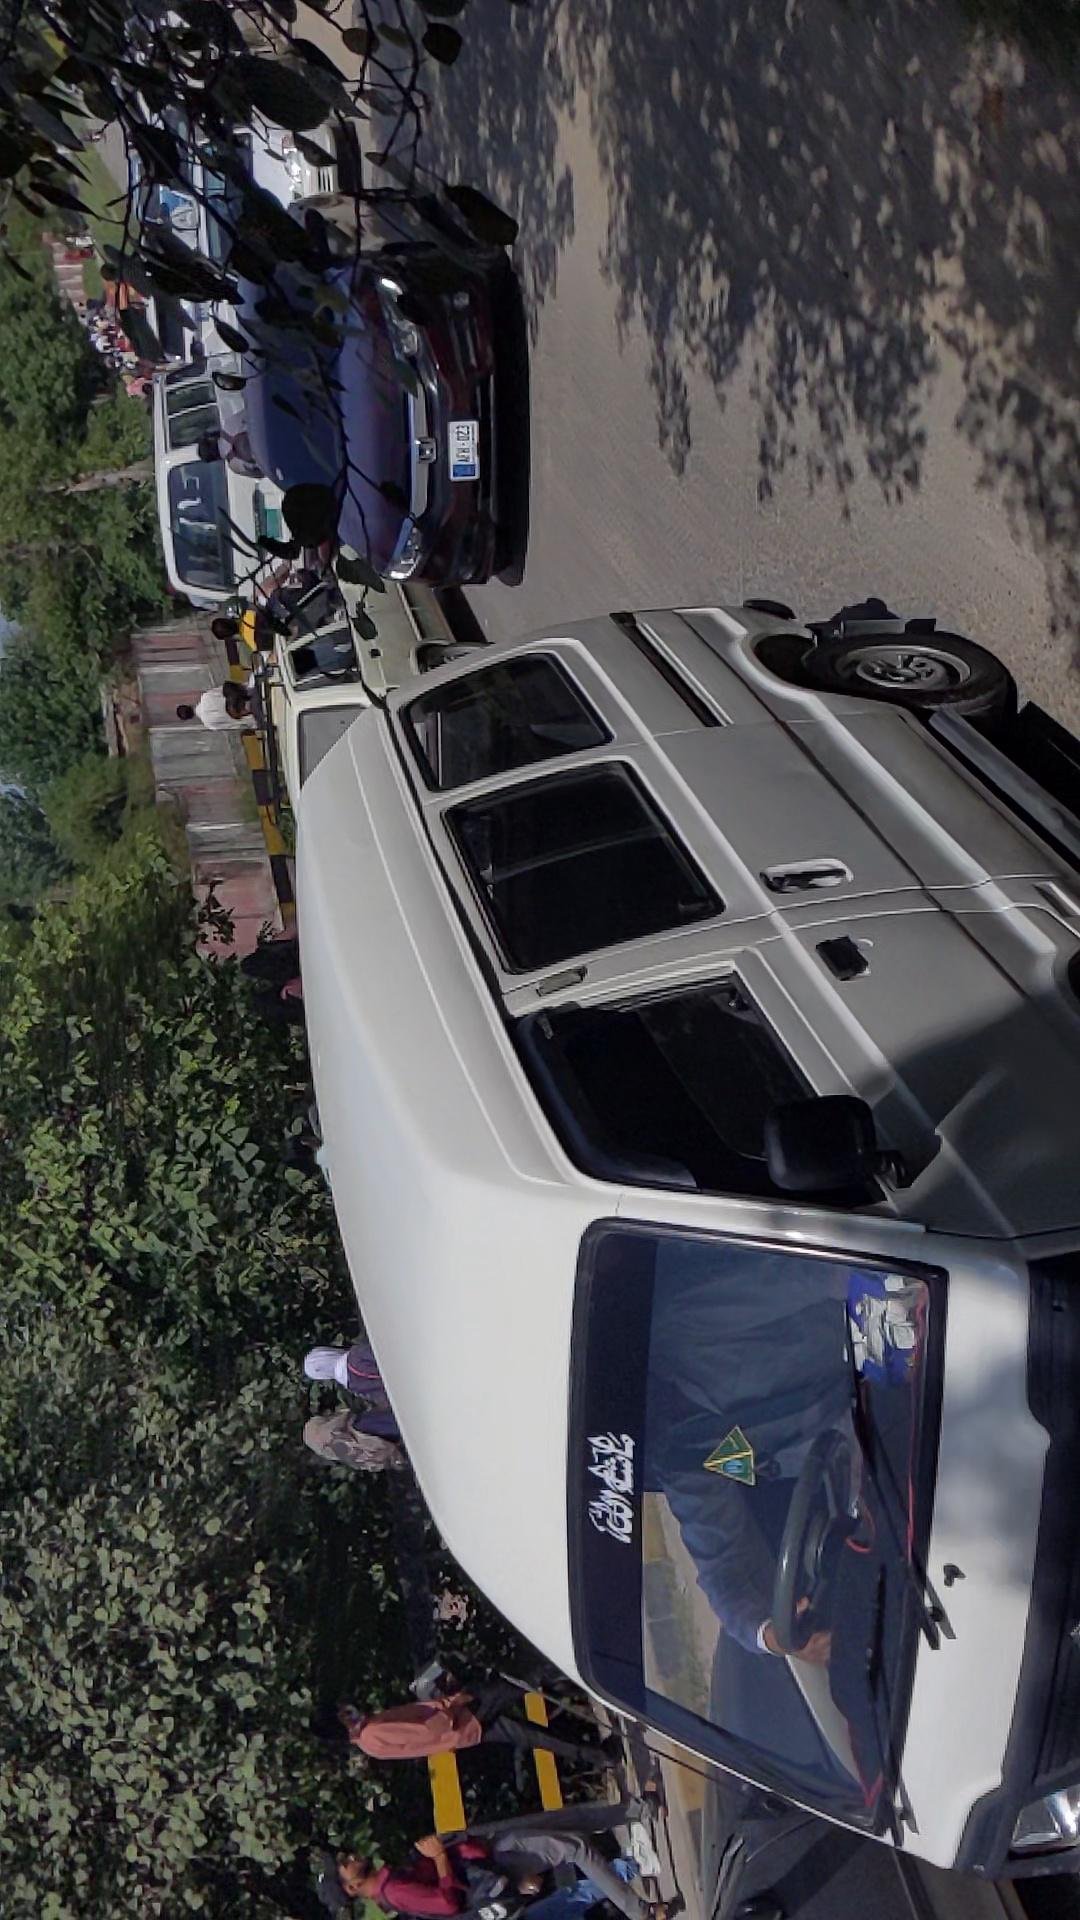windshield: (40, 972, 402, 1749)
